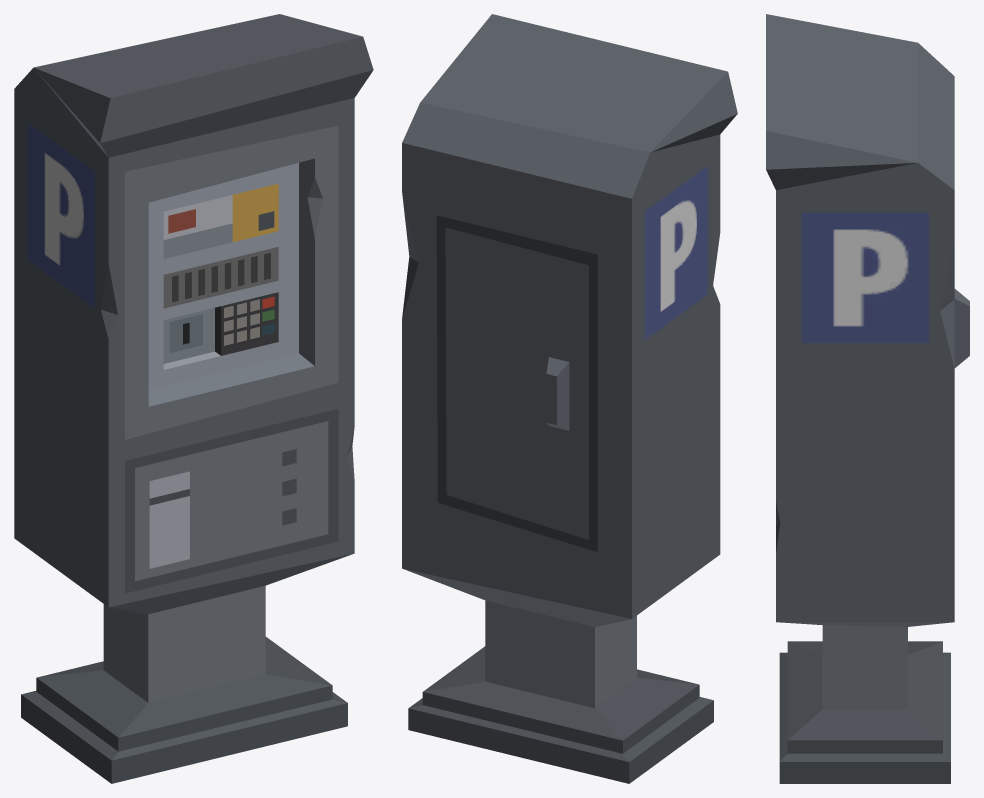
Rendered from parking_meter.glb.
The picture shows the model from 3 angles, left to right: view 1: azimuth 30°, elevation 25°; view 2: azimuth 150°, elevation 25°; view 3: azimuth 270°, elevation 25°; orthographic projection. The views are drawn at different scales.
Parts seen in each view (by area): view 1: SM_Prop_ParkingMeter_02; view 2: SM_Prop_ParkingMeter_02; view 3: SM_Prop_ParkingMeter_02.
Boxes of the visible parts, bbox=[...] form: SM_Prop_ParkingMeter_02: bbox=[14, 14, 373, 783]; SM_Prop_ParkingMeter_02: bbox=[402, 14, 737, 783]; SM_Prop_ParkingMeter_02: bbox=[766, 14, 969, 783].
Bounding box in the file's own units: 0.7719 × 1.87 × 0.5258.
1 material, 1 textured.
